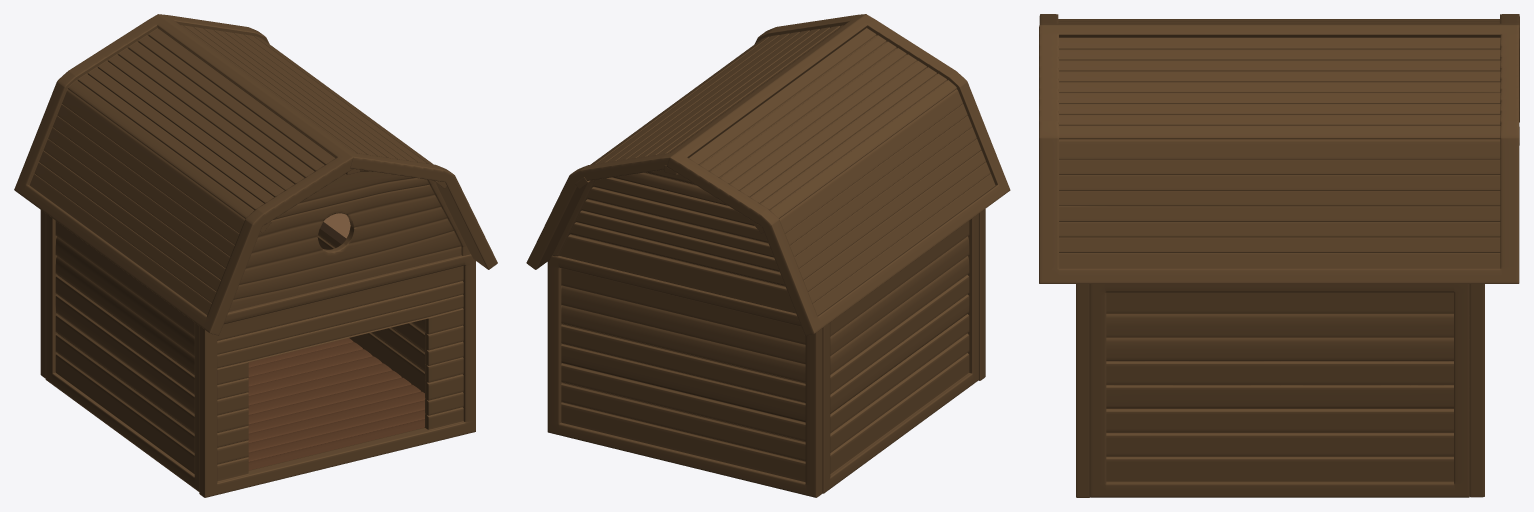
File: barn.glb
3 views of the same model, side by side, from view 1: azimuth 30°, elevation 25°; view 2: azimuth 150°, elevation 25°; view 3: azimuth 270°, elevation 25° (orthographic). The views are drawn at different scales.
Visible parts, largest first — view 1: barn; view 2: barn; view 3: barn.
Part boxes in pixels (bbox=[...]): barn: bbox=[14, 14, 497, 497]; barn: bbox=[526, 14, 1010, 497]; barn: bbox=[1039, 14, 1519, 497].
Bounding box in the file's own units: 22.68 × 24 × 26.74.
